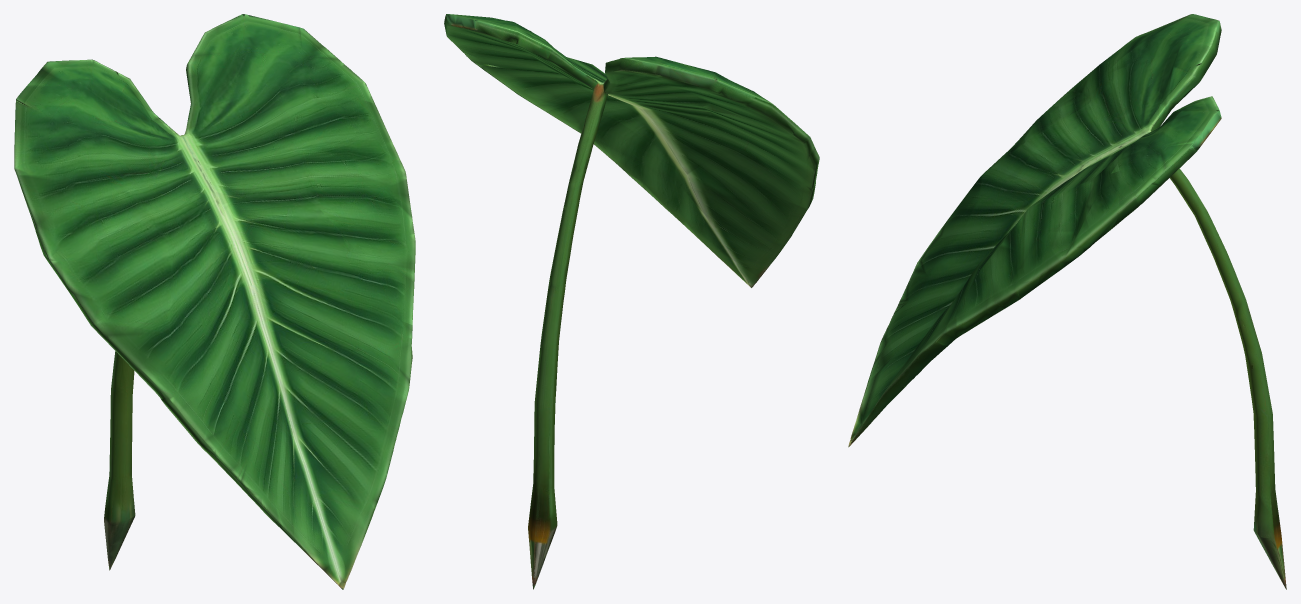
The model's file is pp_leaf_mid.glb.
3 renders of one model, left to right at view 1: azimuth 30°, elevation 25°; view 2: azimuth 150°, elevation 25°; view 3: azimuth 270°, elevation 25°, orthographic. The views are drawn at different scales.
Size of the model in its own units: 1.27 by 1.9 by 1.44.
Materials: 1 (1 with a texture image).
